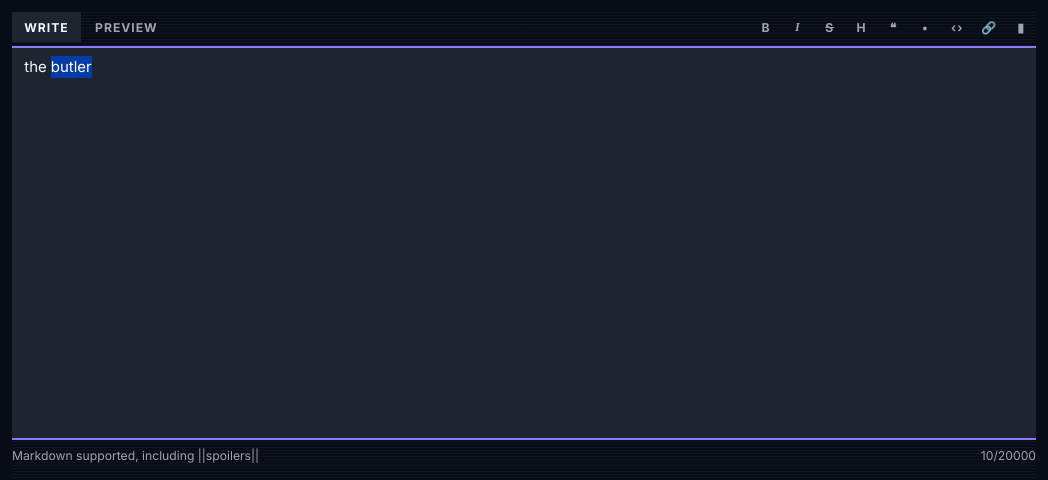
MarkdownEditor › toolbar › inserts a spoiler
Click the button named "Spoiler" at (1021, 27), box x1=1006 y1=12 x2=1036 y2=42
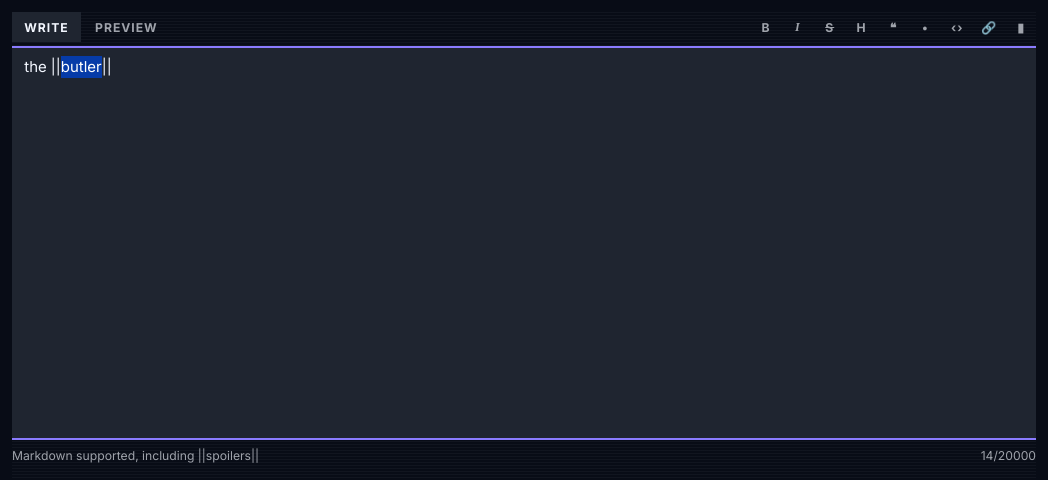
Now the text box holds "the ||butler||"
